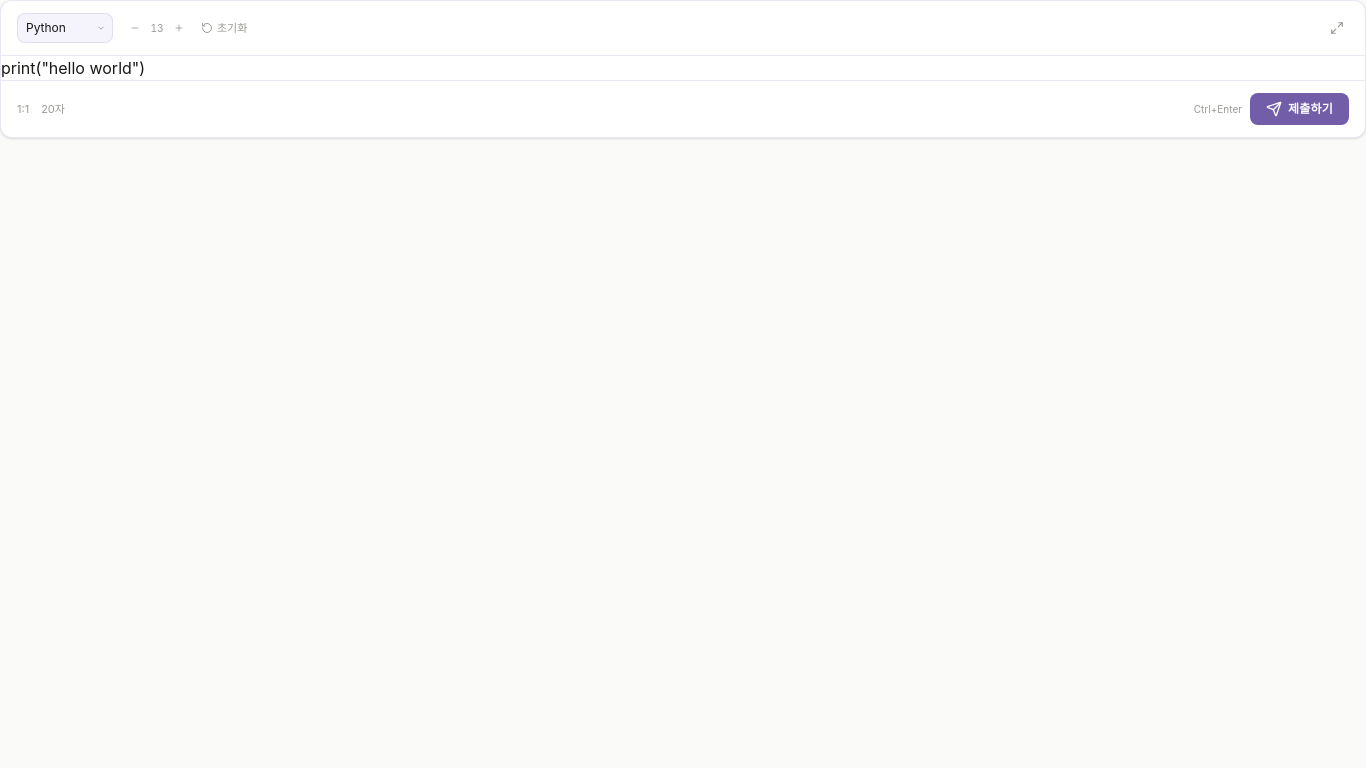
Test: CodeEditor › closes language change popup on cancel
The width and height of the screenshot is (1366, 768).
Select "Java" in the dropdown named "프로그래밍 언어". click: (65, 28)
box: left=17, top=13, right=113, bottom=43
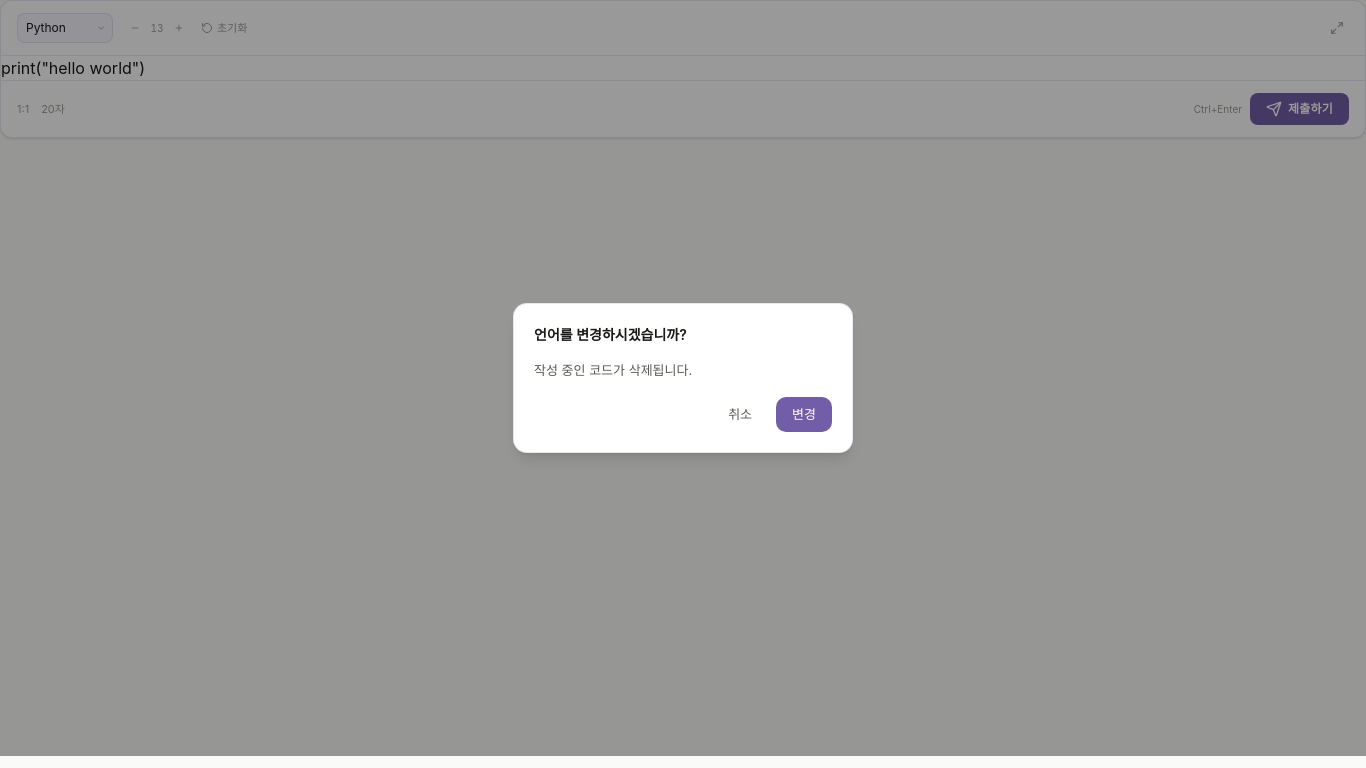
expect the text "작성 중인 코드가 삭제됩니다." is shown: met, box left=534, top=362, right=692, bottom=378
Click the button "취소". click: (740, 414)
box: left=712, top=396, right=768, bottom=432
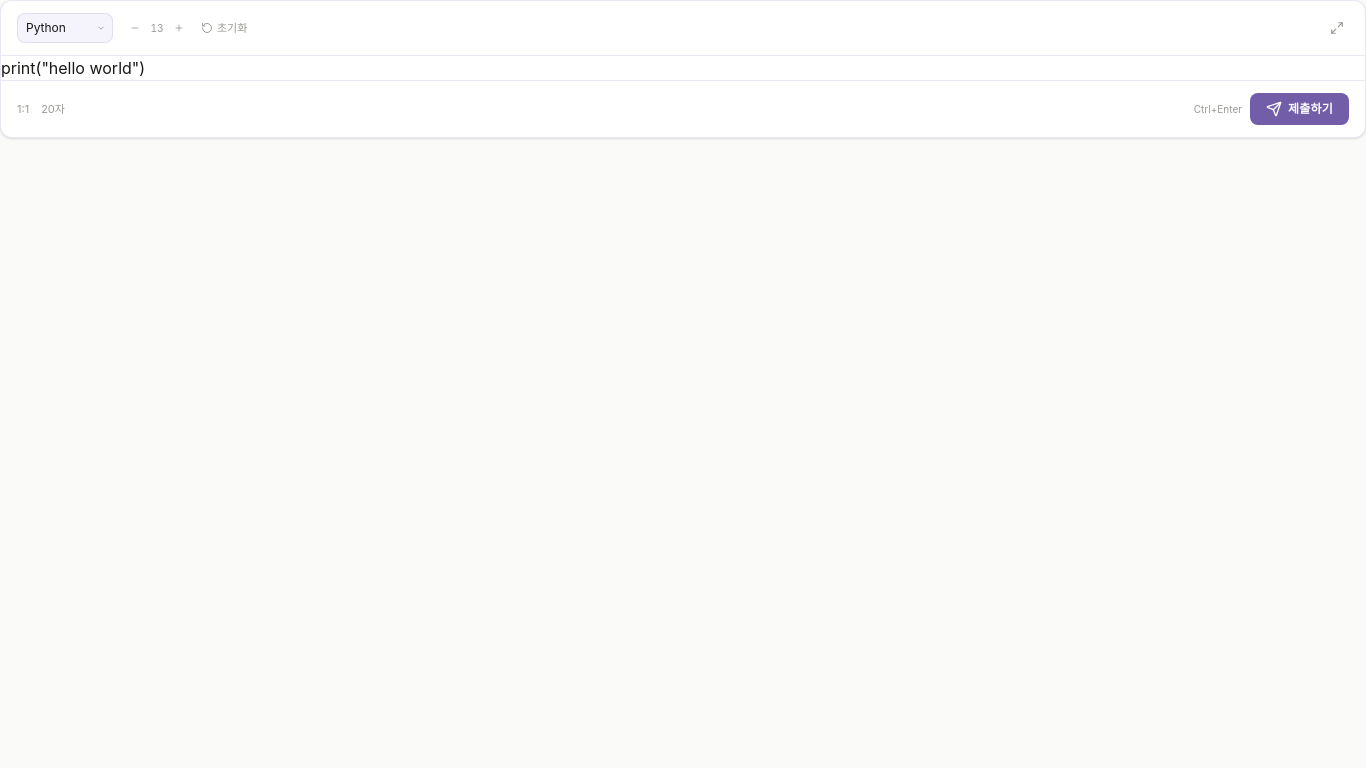
expect the text "언어를 변경하시겠습니까?" is gone: met
